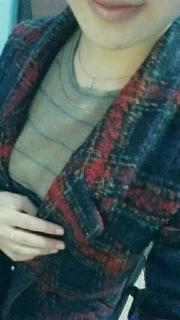short sleeve top: (0, 12, 180, 320)
